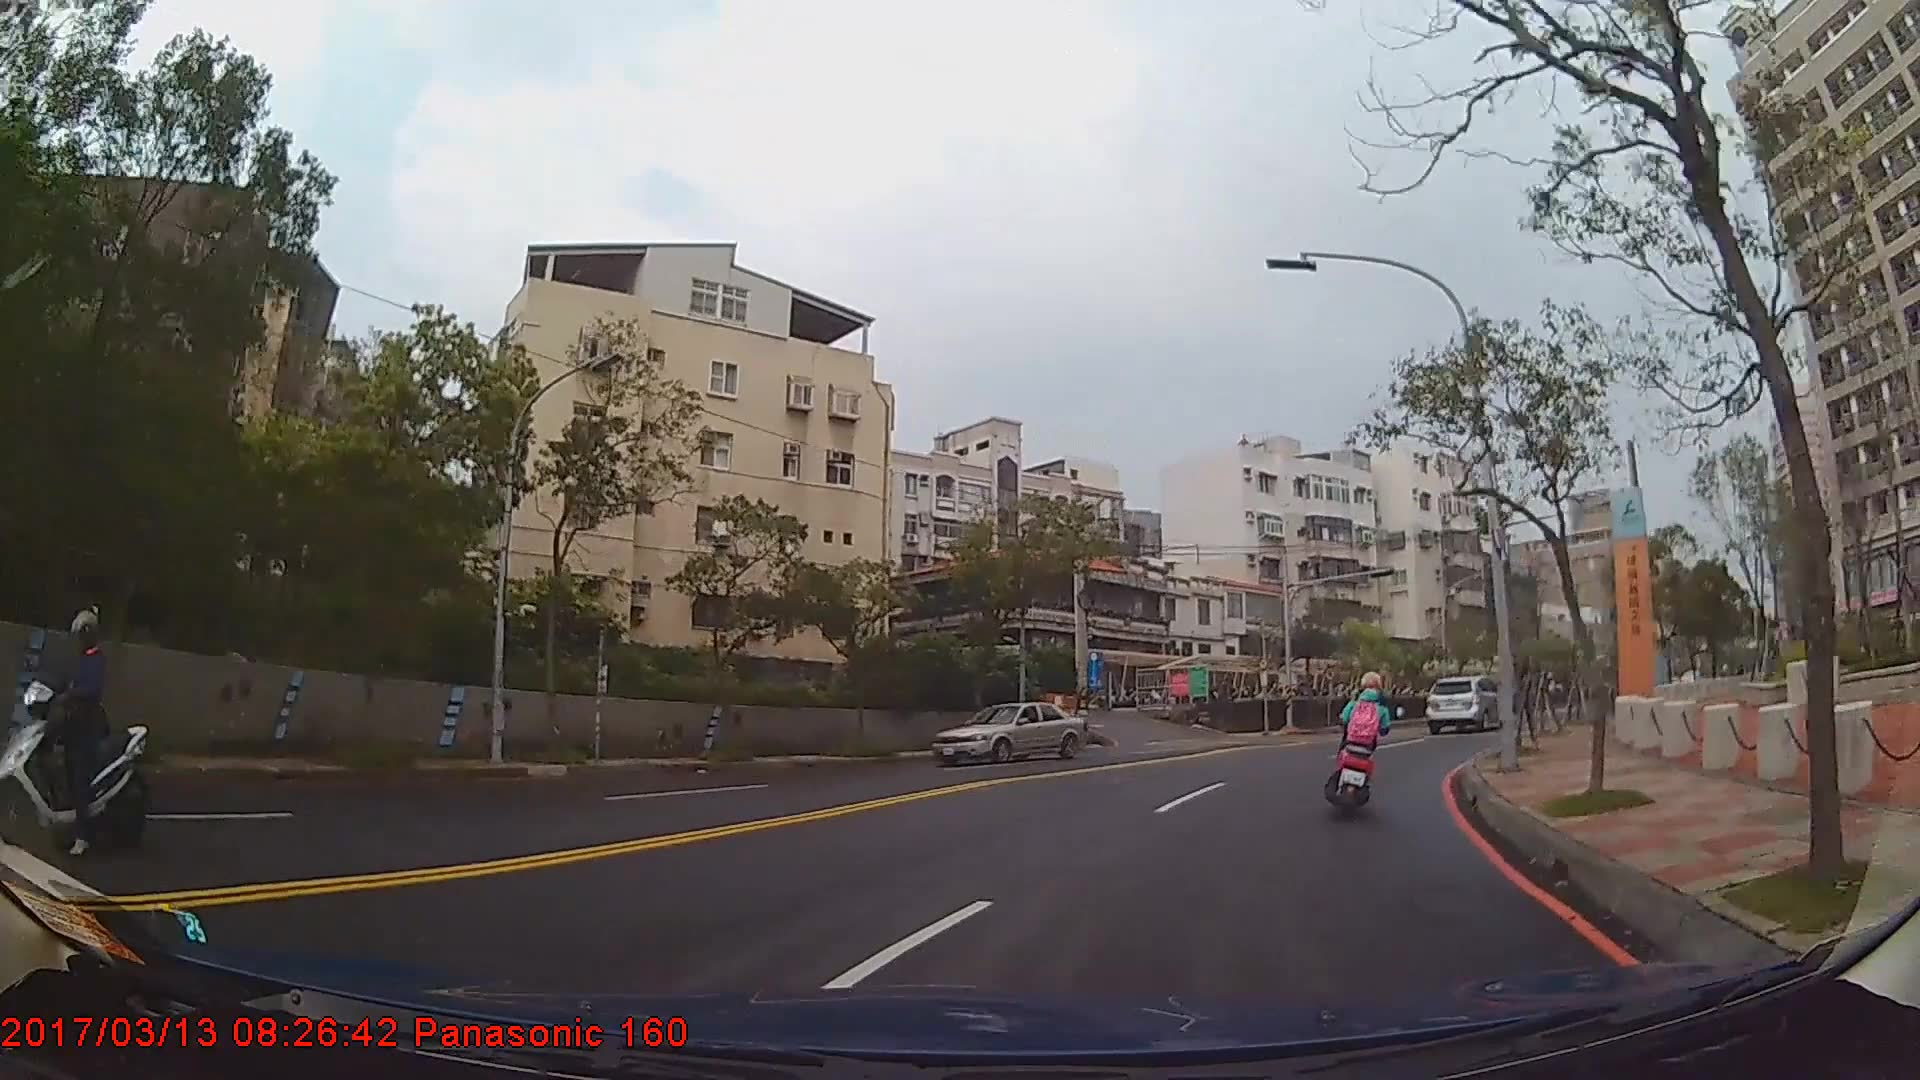rider: (6, 603, 144, 859), (1332, 670, 1395, 804)
vehicle: (929, 702, 1084, 765), (1424, 675, 1504, 736)
